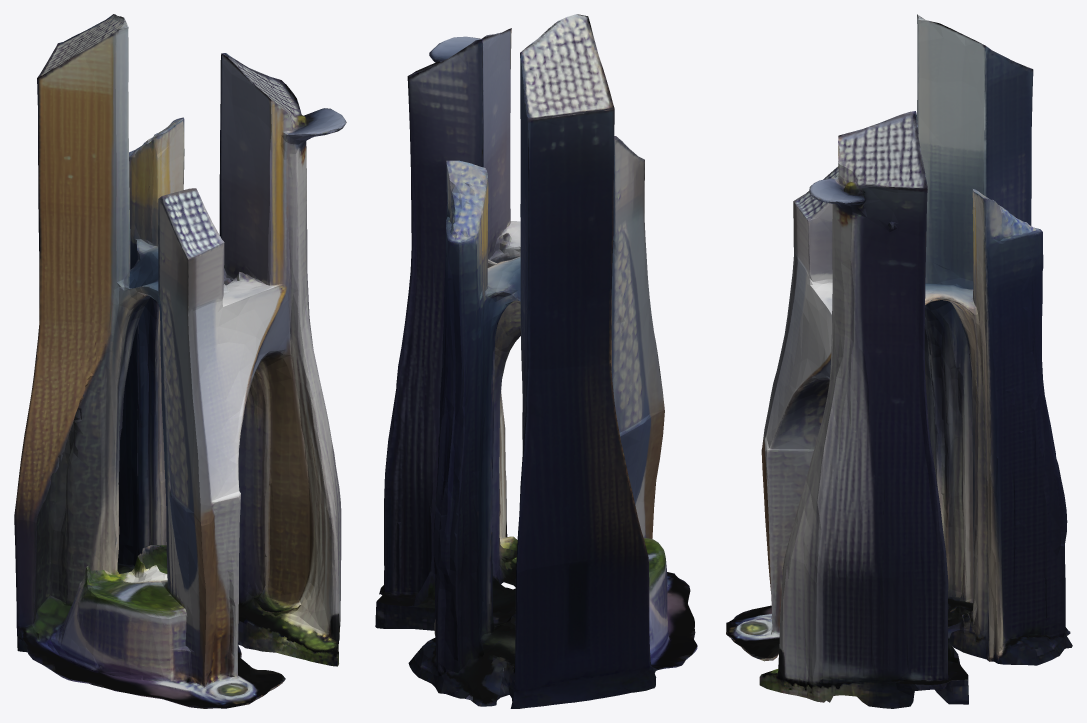
The model's file is newyork.glb.
3 views of the same model, side by side, from view 1: azimuth 30°, elevation 25°; view 2: azimuth 150°, elevation 25°; view 3: azimuth 270°, elevation 25° (orthographic). The views are drawn at different scales.
Parts seen in each view (by area): view 1: world; view 2: world; view 3: world.
Part boxes in pixels (bbox=[...]): world: bbox=[14, 14, 346, 708]; world: bbox=[375, 14, 697, 708]; world: bbox=[726, 14, 1072, 708].
Bounding box in the file's own units: 0.4731 × 1 × 0.5187.
Materials: 1 (1 with a texture image).
